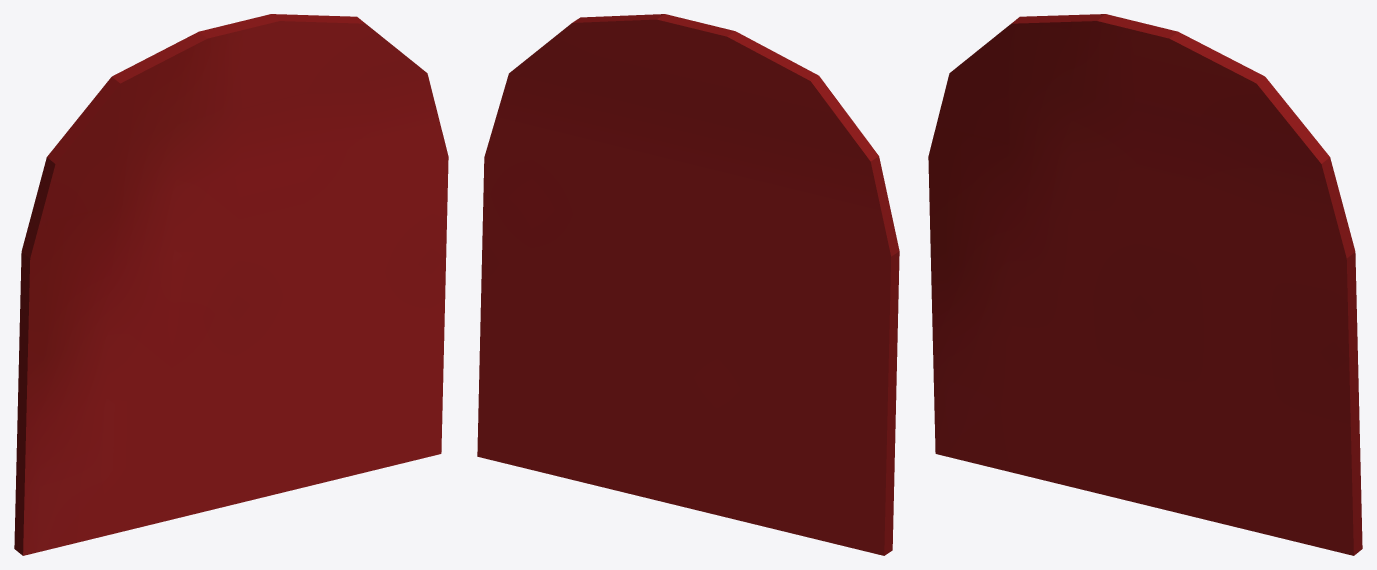
Rendered from buzon_boca.obj.
3 views of the same model, side by side, from view 1: azimuth 30°, elevation 25°; view 2: azimuth 150°, elevation 25°; view 3: azimuth 330°, elevation 25° (orthographic). The views are drawn at different scales.
Visible parts, largest first — view 1: Cube.002_Cube.003; view 2: Cube.002_Cube.003; view 3: Cube.002_Cube.003.
Part boxes in pixels (box(x1,y1,x2,y2)): Cube.002_Cube.003: box(14, 14, 448, 555); Cube.002_Cube.003: box(477, 14, 899, 555); Cube.002_Cube.003: box(928, 14, 1362, 555).
Size of the model in its own units: 0.2027 by 0.2241 by 0.0168.
Materials: 1 (1 with a texture image).
